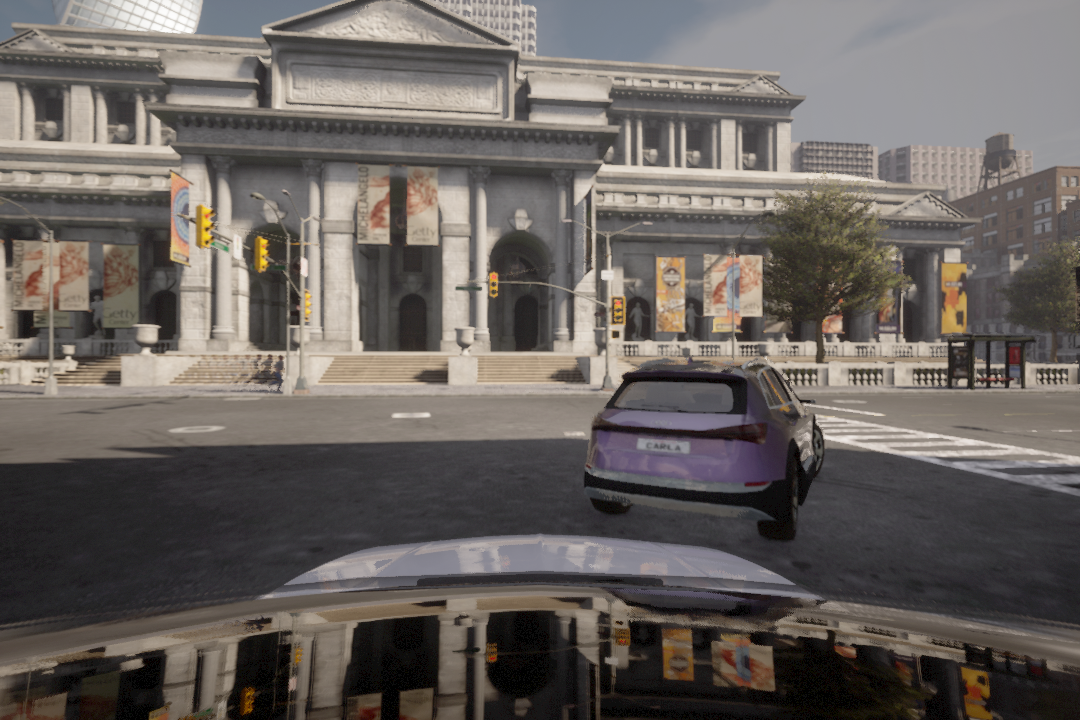TrafficLight: (197, 204, 214, 248), (253, 238, 268, 274), (611, 296, 627, 325), (484, 271, 501, 298)
walkside: (752, 403, 1078, 498)
